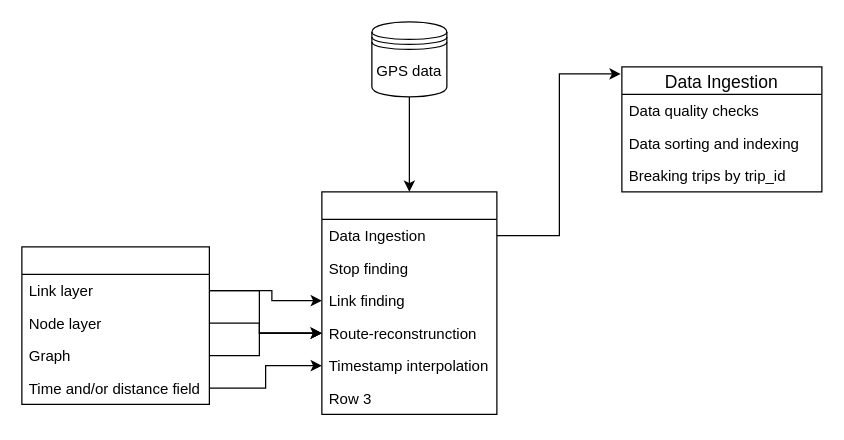
The diagram is 844 pixels wide and 440 high, and some of its shapes have lost their labels. The shapes that lost their labels are listed below. From the top down, each one's box as (x1, y1, x2, y2) in pixels, then its label:
(321, 191, 497, 414): MapMatcher
(21, 246, 209, 404): AequilibraE Project
